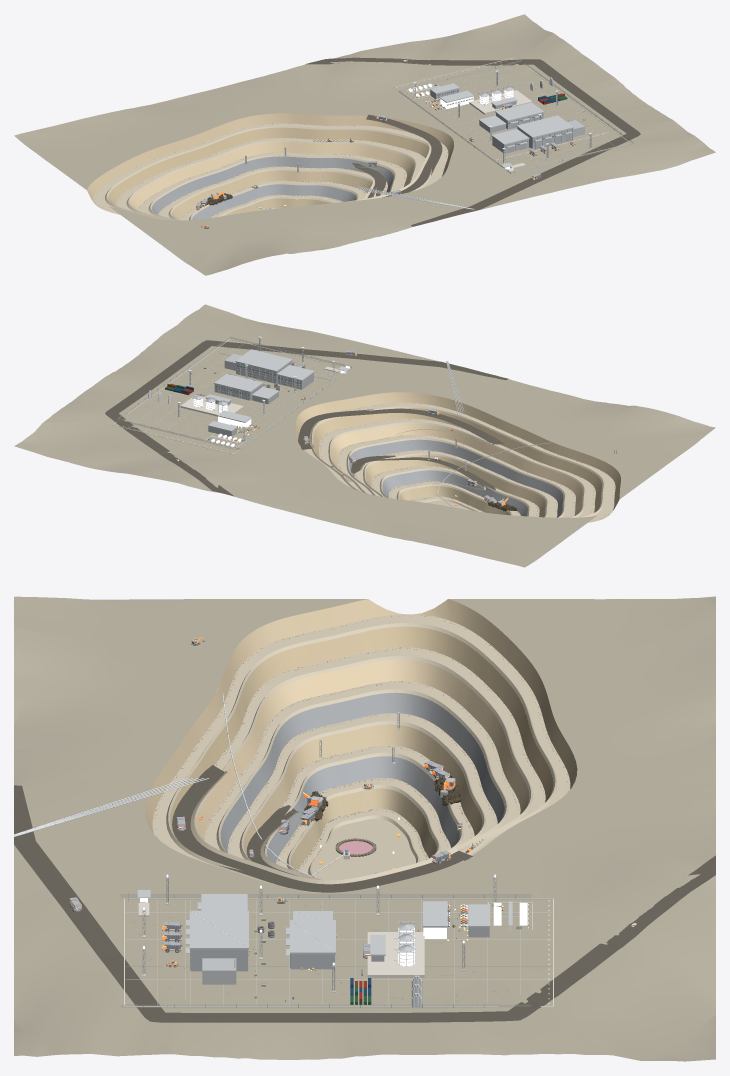
The model's file is openpitmine.glb.
The picture shows the model from 3 angles, top to bottom: view 1: azimuth 30°, elevation 25°; view 2: azimuth 150°, elevation 25°; view 3: azimuth 270°, elevation 25°; orthographic projection. The views are drawn at different scales.
Parts seen in each view (by area): view 1: structure/mat_8b8166_55, structure/mat_c7b28c_1, structure/road, structure/mat_73797f_4, structure/mat_b6a482_54, structure/mat_cba872_0, structure/mat_b99964_2, structure/mat_dcb67c_3, structure/roof, structure/mat_c2a16d_5, structure/concrete, structure/clad (+7 smaller); view 2: structure/mat_8b8166_55, structure/mat_c7b28c_1, structure/road, structure/mat_b6a482_54, structure/mat_73797f_4, structure/mat_cba872_0, structure/mat_dcb67c_3, structure/mat_b99964_2, structure/roof, structure/mat_c2a16d_5, structure/clad, structure/concrete (+6 smaller); view 3: structure/mat_8b8166_55, structure/mat_c7b28c_1, structure/road, structure/mat_b6a482_54, structure/mat_73797f_4, structure/mat_cba872_0, structure/mat_b99964_2, structure/mat_dcb67c_3, structure/roof, structure/mat_c2a16d_5, structure/mat_b9a887_7, structure/concrete (+9 smaller).
Boxes of the visible parts, left/top/right/bottom form: structure/mat_8b8166_55: left=14, top=14, right=715, bottom=275; structure/mat_c7b28c_1: left=93, top=123, right=448, bottom=220; structure/road: left=305, top=57, right=640, bottom=236; structure/mat_73797f_4: left=152, top=156, right=393, bottom=219; structure/mat_b6a482_54: left=105, top=126, right=431, bottom=220; structure/mat_cba872_0: left=87, top=113, right=453, bottom=202; structure/mat_b99964_2: left=108, top=127, right=429, bottom=205; structure/mat_dcb67c_3: left=130, top=142, right=413, bottom=210; structure/roof: left=411, top=83, right=573, bottom=167; structure/mat_c2a16d_5: left=172, top=170, right=372, bottom=219; structure/concrete: left=245, top=57, right=630, bottom=173; structure/clad: left=430, top=89, right=573, bottom=153; structure/mat_8b8166_55: left=14, top=304, right=715, bottom=567; structure/mat_c7b28c_1: left=304, top=402, right=615, bottom=522; structure/road: left=105, top=340, right=508, bottom=496; structure/mat_b6a482_54: left=309, top=406, right=604, bottom=517; structure/mat_73797f_4: left=349, top=439, right=563, bottom=517; structure/mat_cba872_0: left=295, top=392, right=620, bottom=510; structure/mat_dcb67c_3: left=331, top=423, right=582, bottom=515; structure/mat_b99964_2: left=313, top=408, right=601, bottom=512; structure/roof: left=205, top=349, right=349, bottom=442; structure/mat_c2a16d_5: left=366, top=455, right=545, bottom=517; structure/clad: left=208, top=361, right=313, bottom=436; structure/concrete: left=113, top=339, right=466, bottom=470; structure/mat_8b8166_55: left=14, top=596, right=715, bottom=1061; structure/mat_c7b28c_1: left=152, top=614, right=570, bottom=883; structure/road: left=14, top=765, right=715, bottom=1022; structure/mat_b6a482_54: left=166, top=623, right=556, bottom=892; structure/mat_73797f_4: left=220, top=692, right=504, bottom=863; structure/mat_cba872_0: left=145, top=599, right=577, bottom=833; structure/mat_b99964_2: left=170, top=626, right=553, bottom=835; structure/mat_dcb67c_3: left=195, top=659, right=528, bottom=840; structure/roof: left=137, top=890, right=512, bottom=955; structure/mat_c2a16d_5: left=243, top=724, right=482, bottom=856; structure/mat_b9a887_7: left=312, top=818, right=415, bottom=880; structure/concrete: left=124, top=728, right=553, bottom=1006.
Bounding box in the file's own units: 832 × 115 × 540.
Materials: 56 (8 with a texture image).
